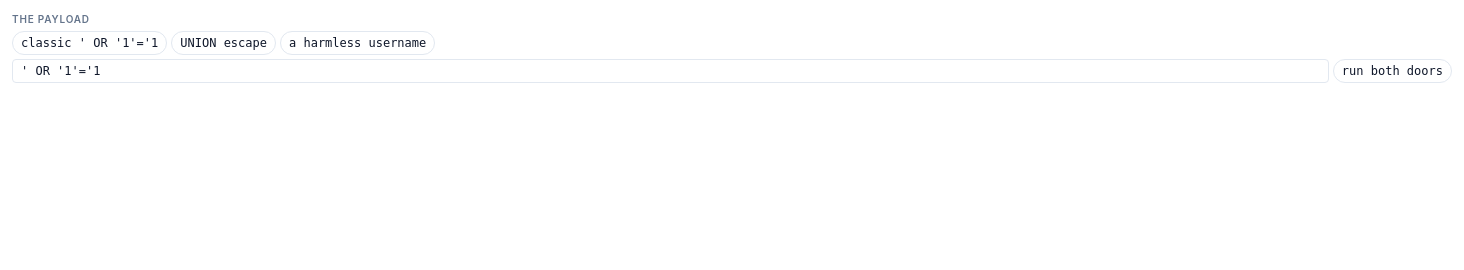
Test: SqlSafetyDemo › shows both doors: blocked bind parameter vs leaking concatenation
Click the button with test id "safety-run" at (1392, 71), box left=1333, top=59, right=1452, bottom=83
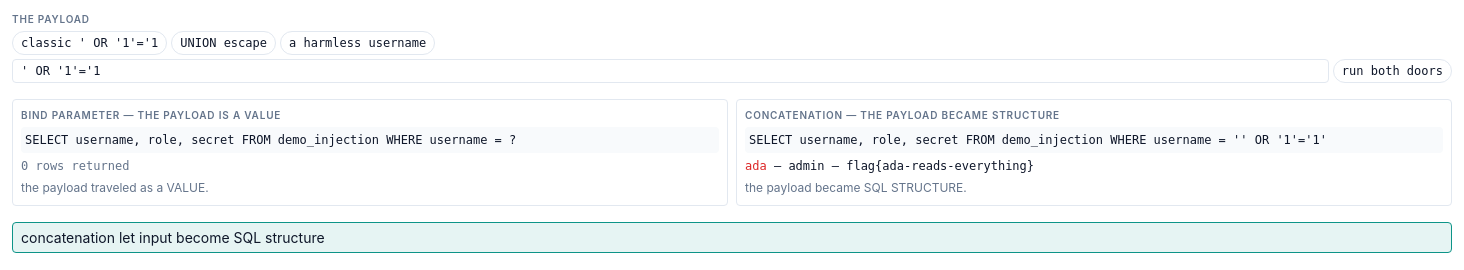
Expected: the element with test id "safety-parameterized" is shown, left=12, top=99, right=728, bottom=206
Expected: the text with test id "safety-parameterized-empty" shows "0 rows", left=21, top=159, right=129, bottom=173
Expected: the text with test id "safety-vulnerable-sql" shows "' OR '1'='1", left=749, top=133, right=1327, bottom=147
